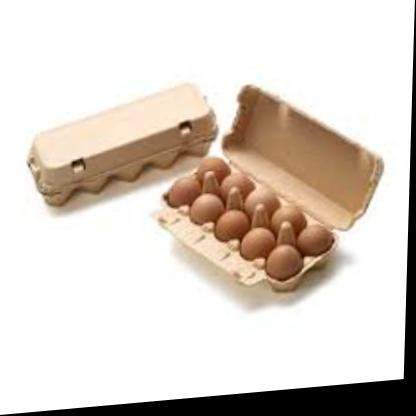egg: (267, 205, 310, 248), (265, 245, 307, 289), (242, 188, 284, 231), (294, 225, 336, 266), (193, 156, 233, 196), (238, 228, 279, 267), (164, 173, 204, 212), (218, 172, 258, 211), (213, 210, 254, 248), (187, 193, 227, 231)
